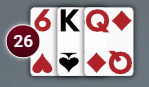6: (28, 5, 56, 33)
k: (55, 4, 84, 36)
q: (82, 3, 113, 36)
